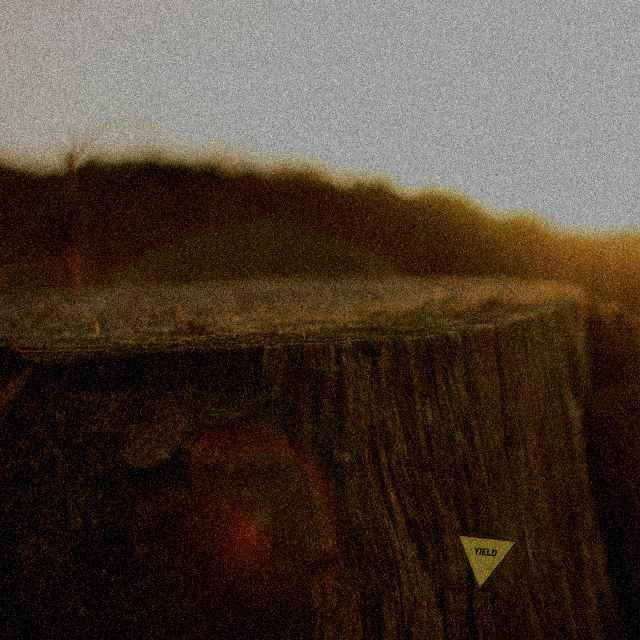YIELD: (458, 535, 517, 589)
